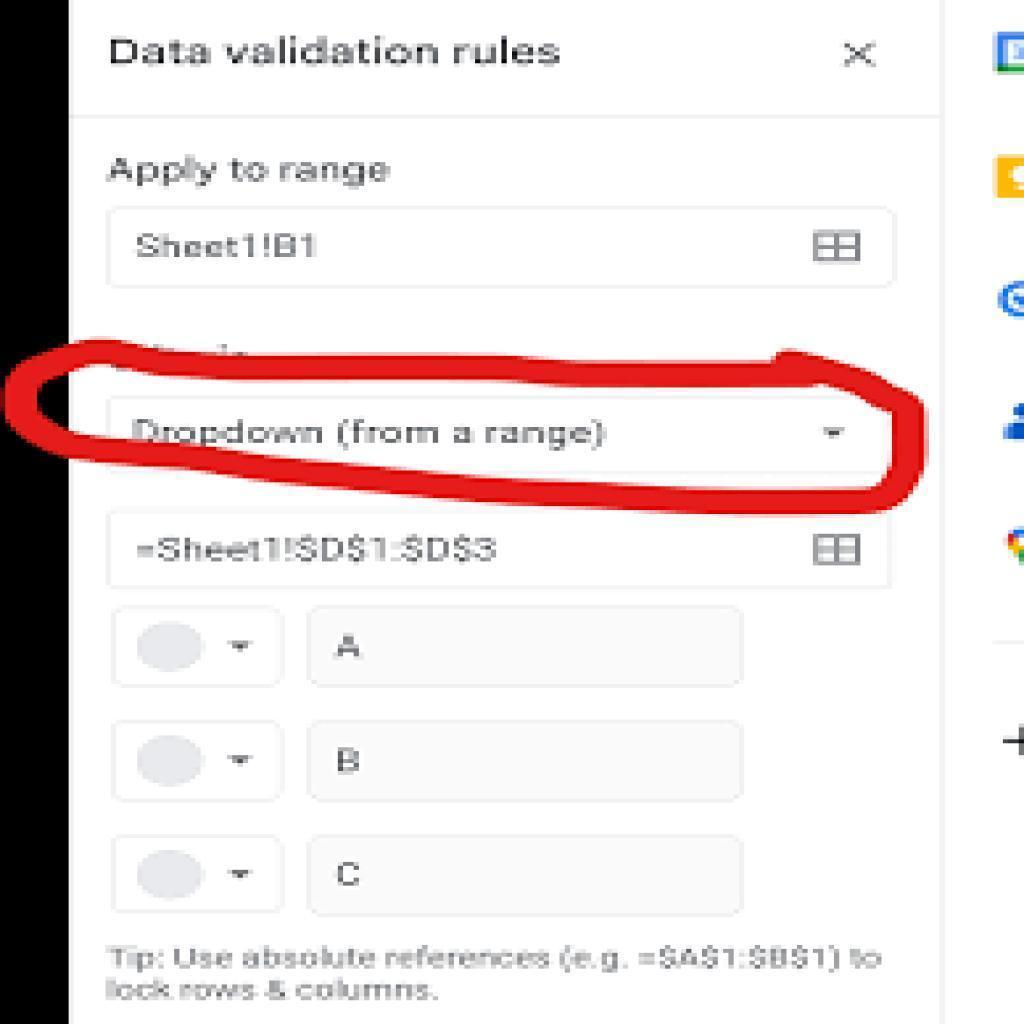dropdown: (111, 396, 878, 462), (112, 714, 287, 803), (112, 835, 284, 917), (114, 609, 287, 687)
icon: (806, 527, 867, 572), (809, 221, 867, 267), (837, 40, 881, 76)
input: (109, 203, 892, 285), (309, 720, 742, 803), (309, 611, 740, 691), (309, 836, 743, 915)
